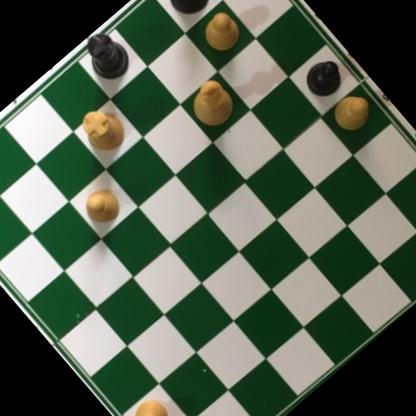black-king: (151, 0, 224, 27)
black-pawn: (296, 51, 350, 105)
black-rook: (76, 24, 140, 89)
white-king: (180, 73, 245, 138)
white-pawn: (325, 86, 380, 141), (195, 6, 247, 59), (76, 181, 128, 232), (124, 392, 178, 416)
white-rook: (72, 99, 134, 162)
